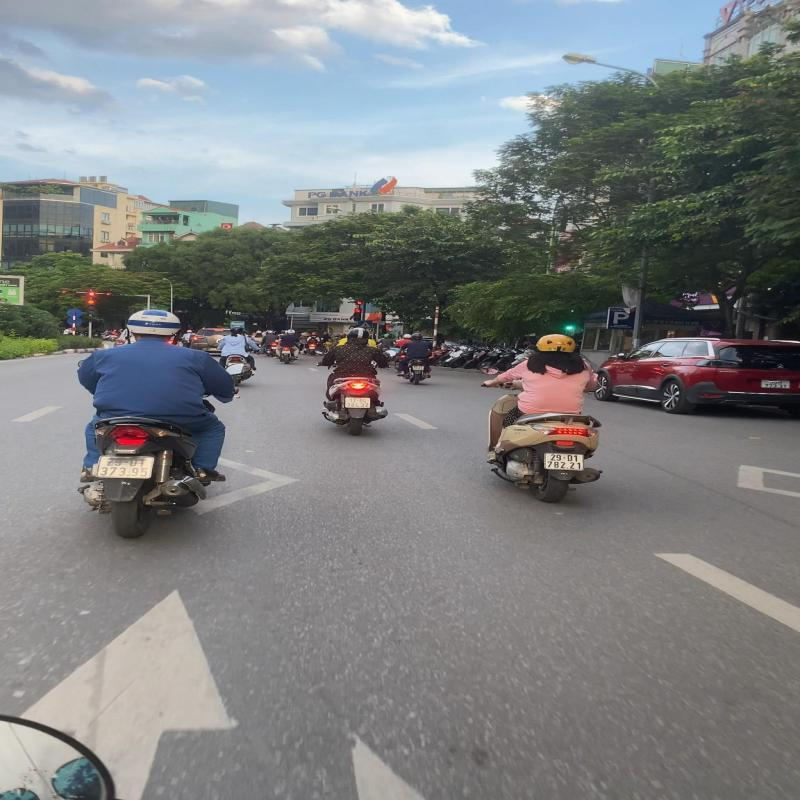helmet: (127, 309, 181, 336), (534, 334, 576, 354), (347, 328, 368, 340)
licenseplate: (97, 456, 152, 478), (544, 451, 585, 470), (346, 397, 371, 408)
motorcyclist: (77, 306, 242, 536), (473, 330, 605, 504), (318, 327, 392, 436)
